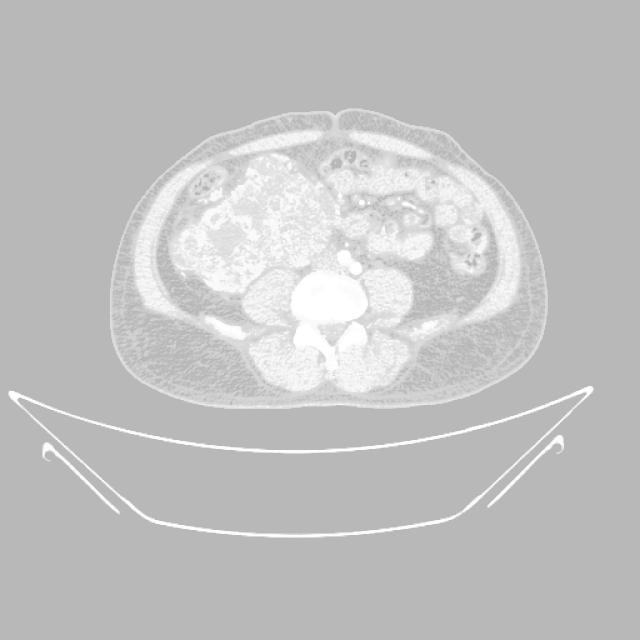TUMOR: (150, 136, 506, 292)
